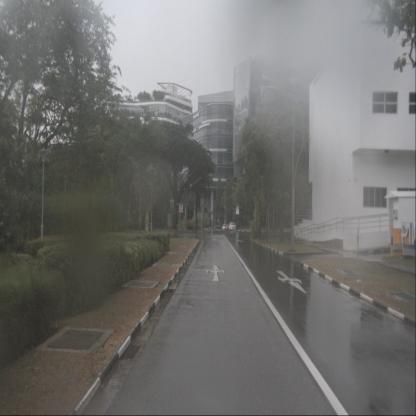vehicle-car: (229, 222, 236, 231), (225, 223, 231, 231), (222, 223, 227, 230)
